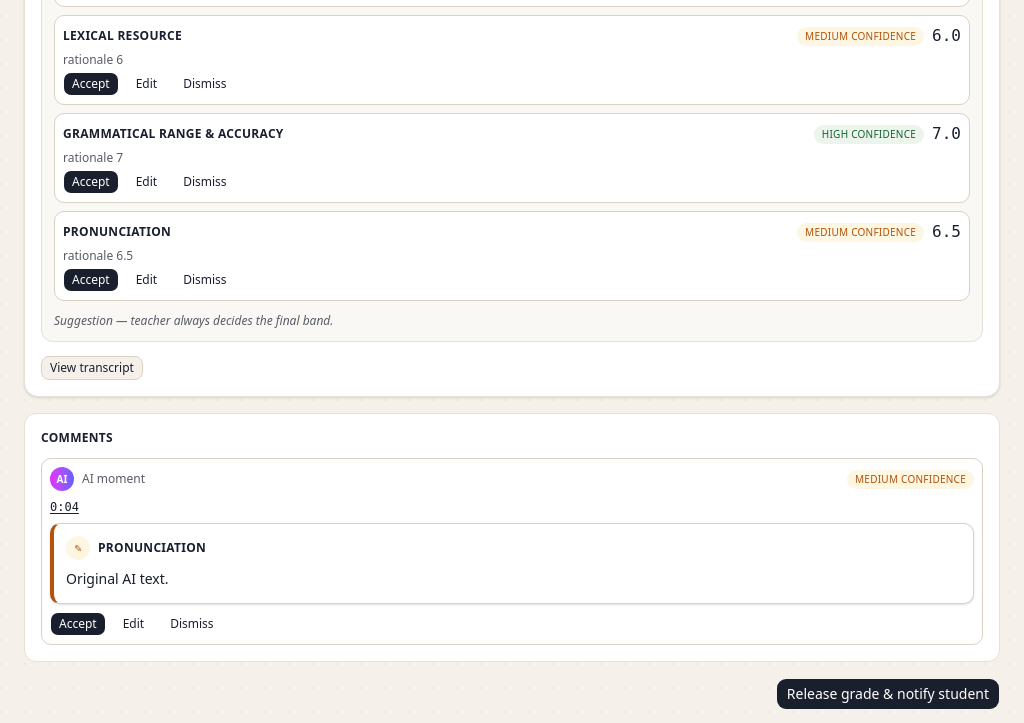
SpeakingGradingPage AI — moment actions at the page level (AC6/AC8, TA) › Edit-then-Accept a moment: the EDITED text is what merges into the draft
(page scrolled)
Click the button with test id "ai-moment-ai-m-0-edit" at (133, 624), box [114,612,153,636]
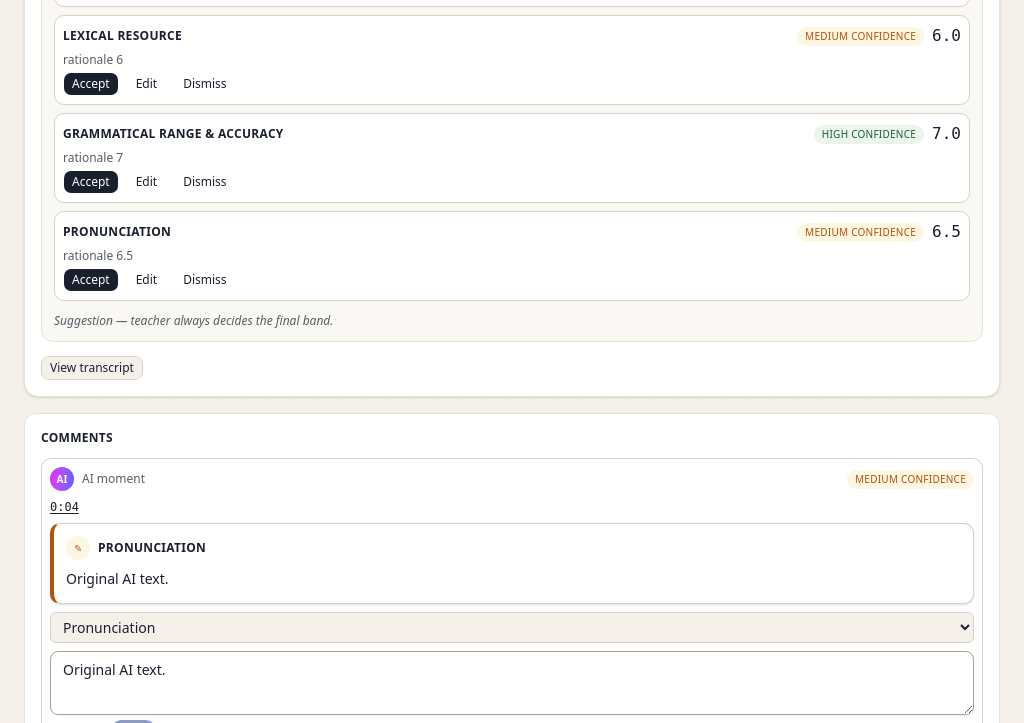
Replace the text in the text box with test id "ai-moment-ai-m-0-text" with "Teacher-refined note." at (512, 683), box [50,651,974,715]
(page scrolled)
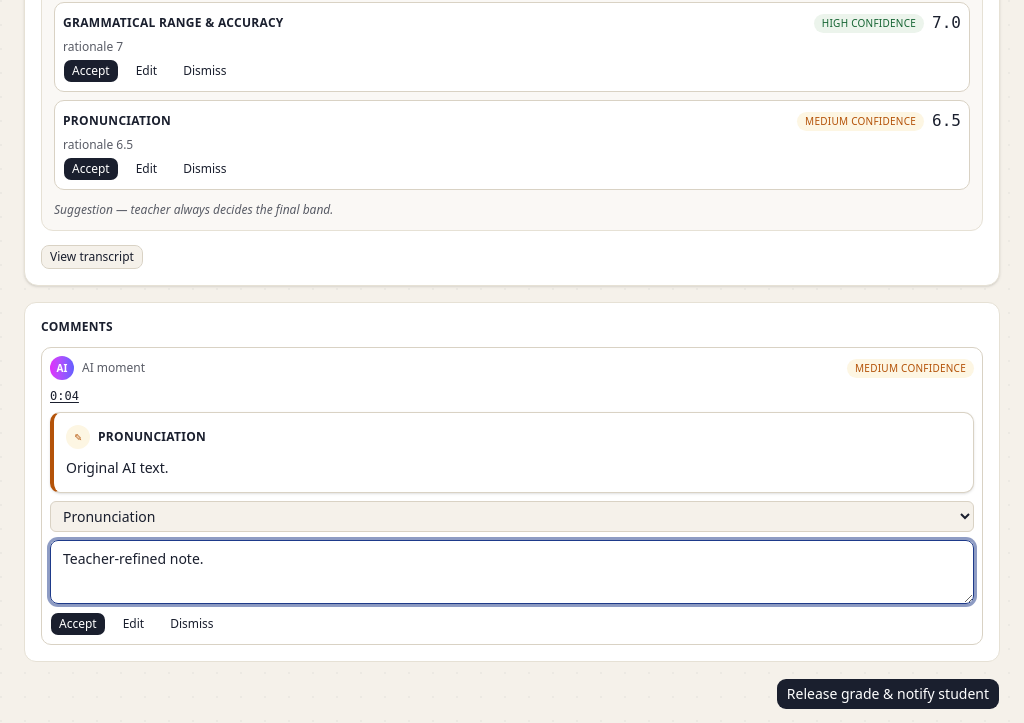
Click the button with test id "ai-moment-ai-m-0-accept" at (78, 624), box [50,612,106,636]
(page scrolled)
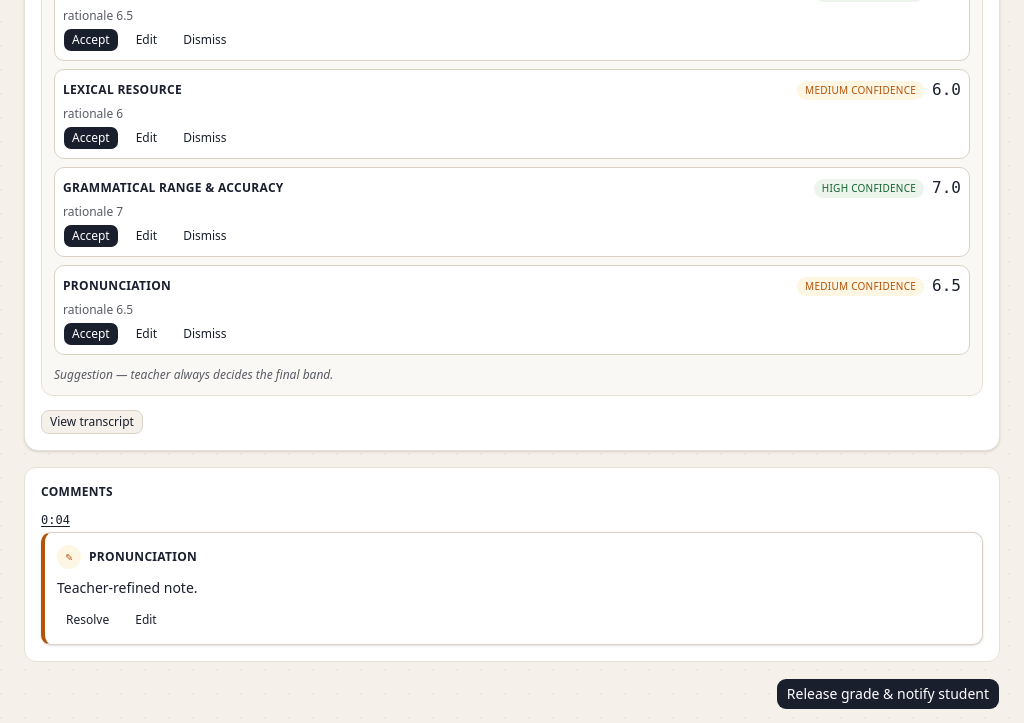
Expected: the element with test id "ai-moment-ai-m-0" is gone
Expected: the text "Teacher-refined note." is shown, [57,578,198,597]
Expected: the text "Original AI text." is gone
